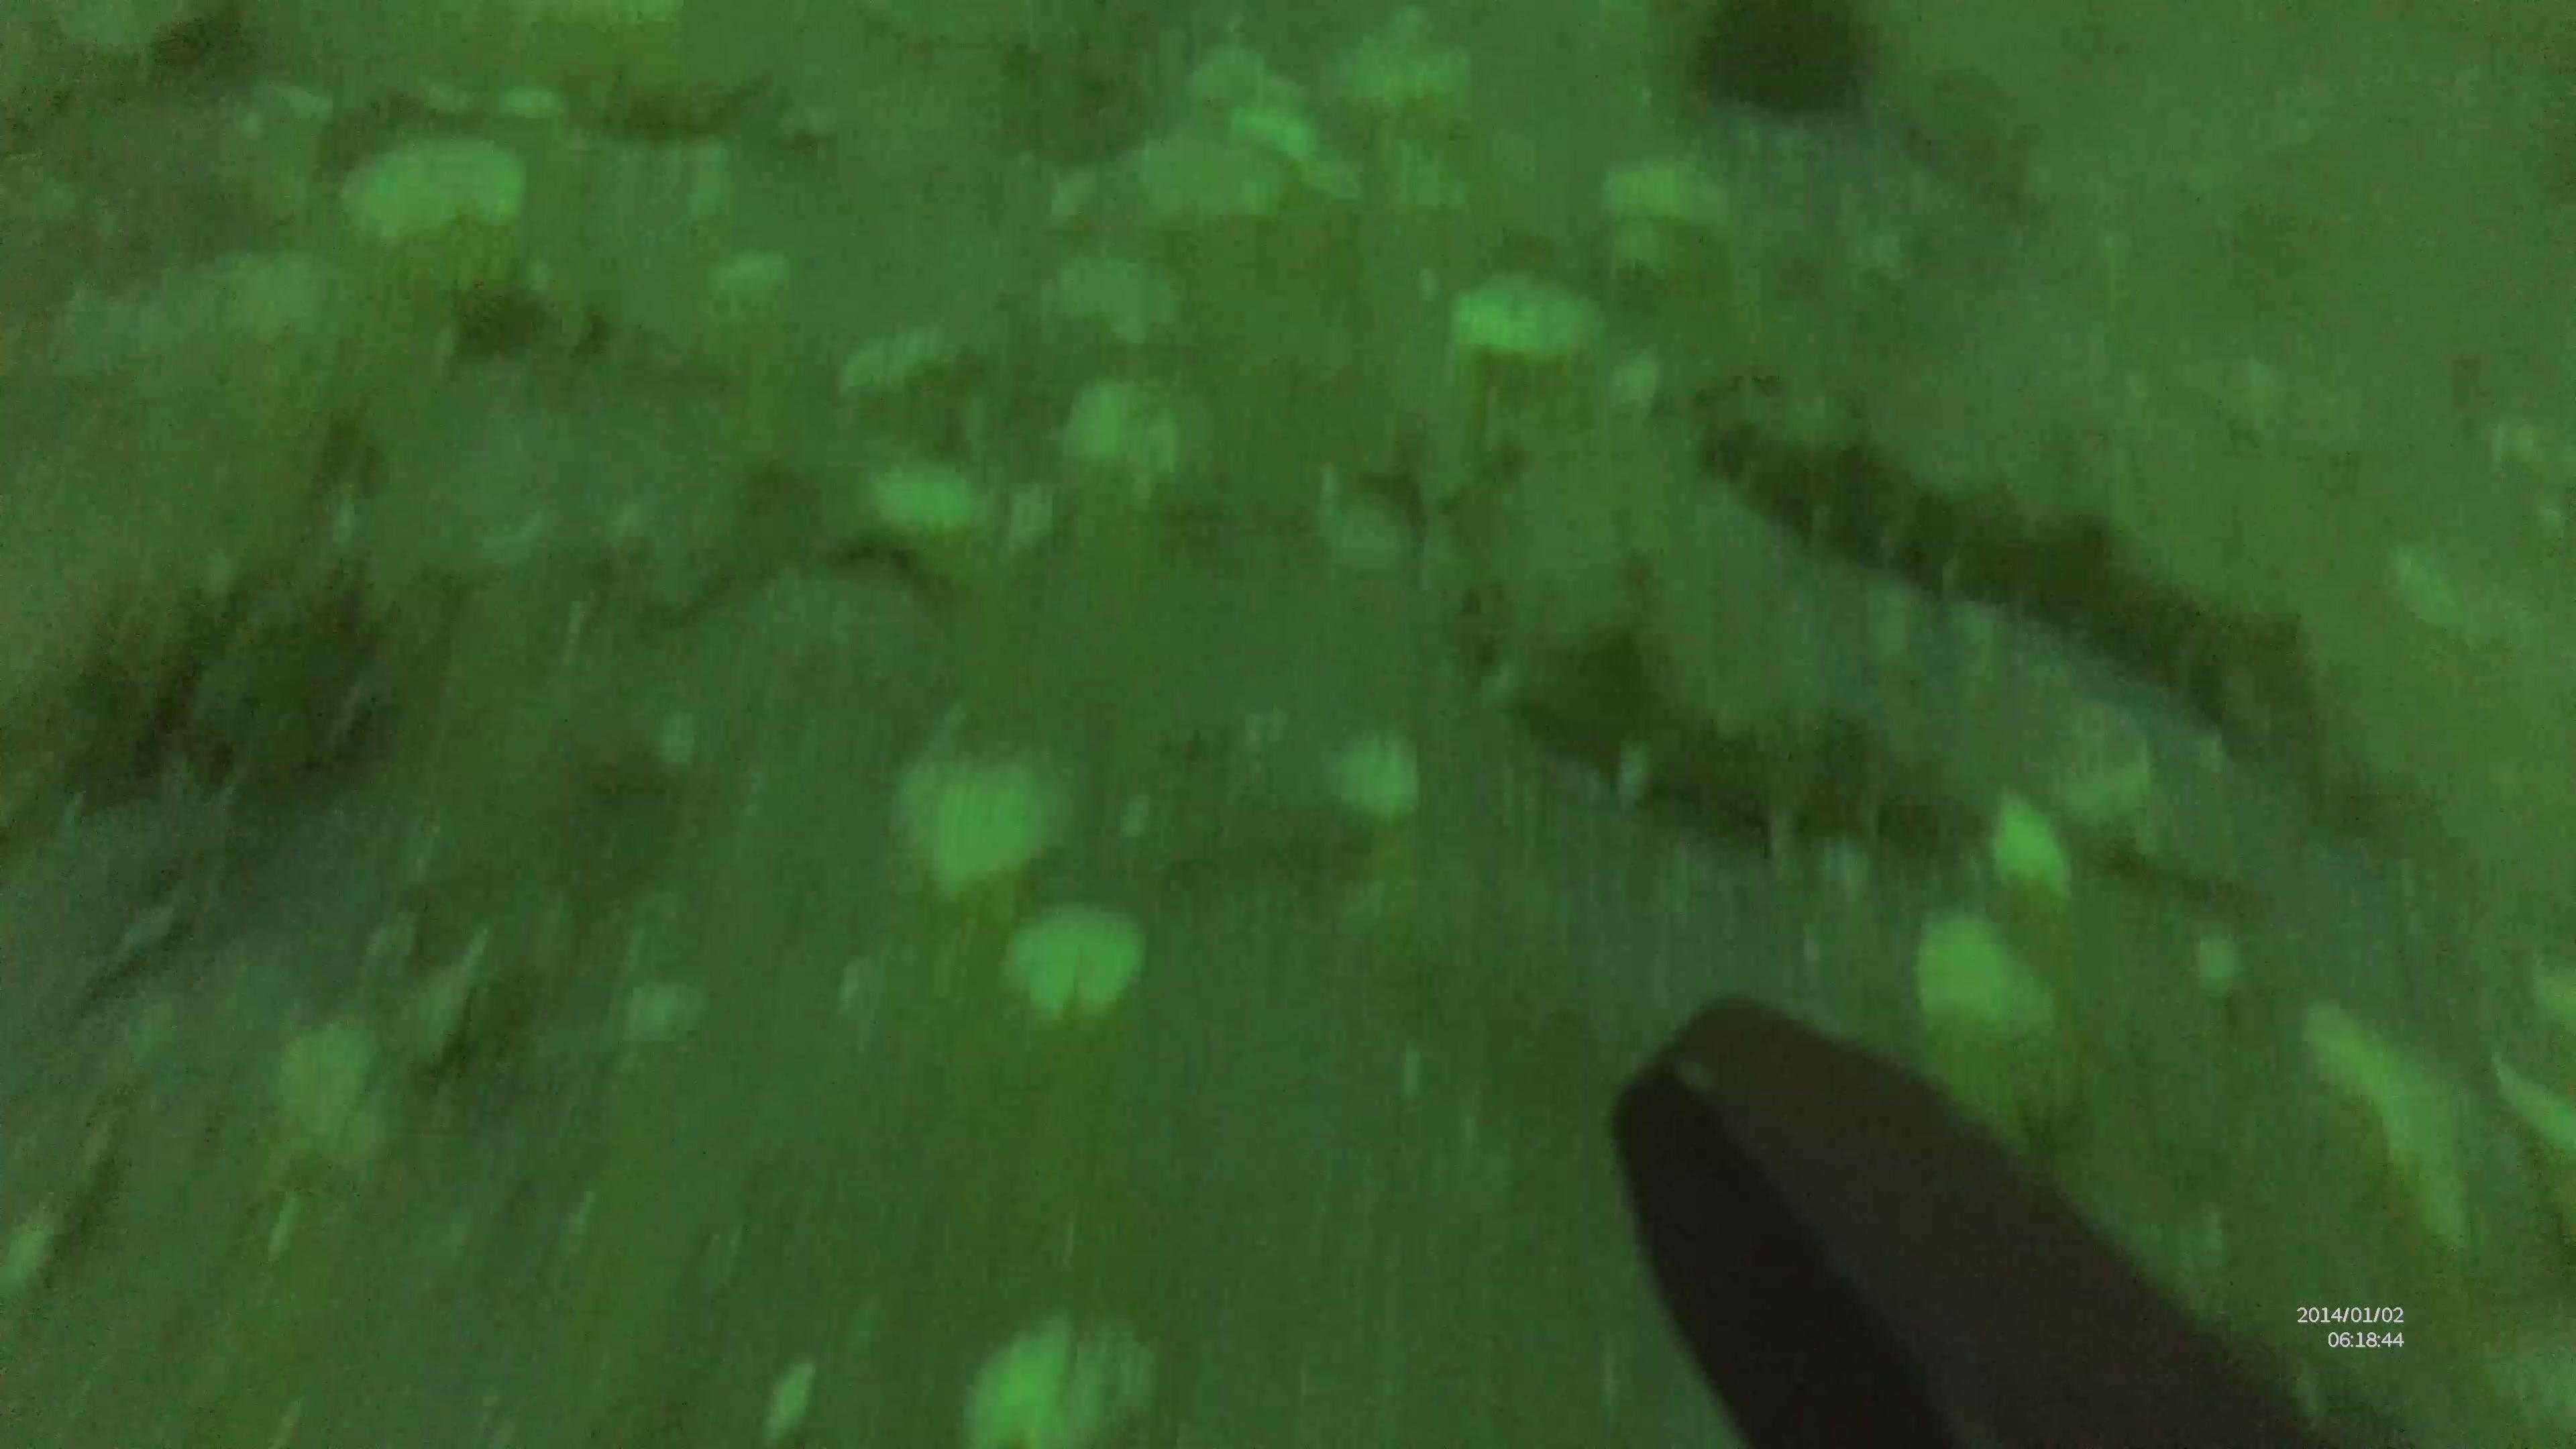echinus: (1695, 0, 1882, 122)
holothurian: (1695, 377, 2327, 743), (1484, 561, 1967, 867)
scallop: (1447, 258, 1601, 366), (1974, 782, 2075, 915), (1592, 138, 1723, 230), (2052, 697, 2150, 814), (2392, 533, 2465, 628)
